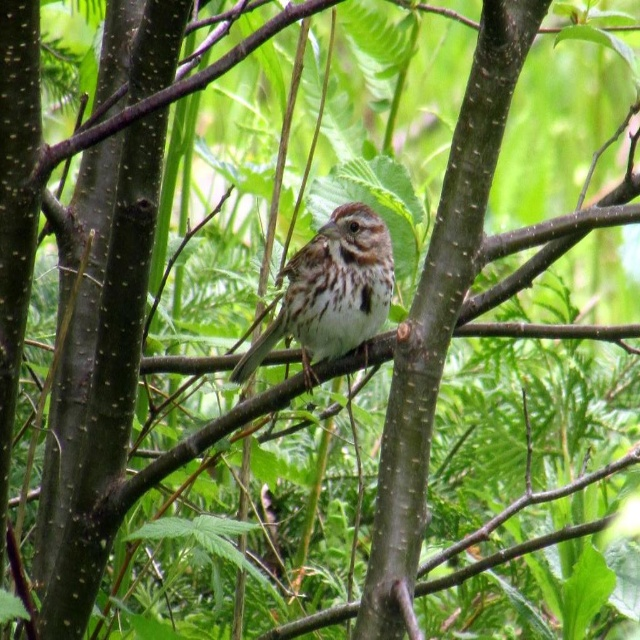Sparrow: (231, 199, 393, 395)
